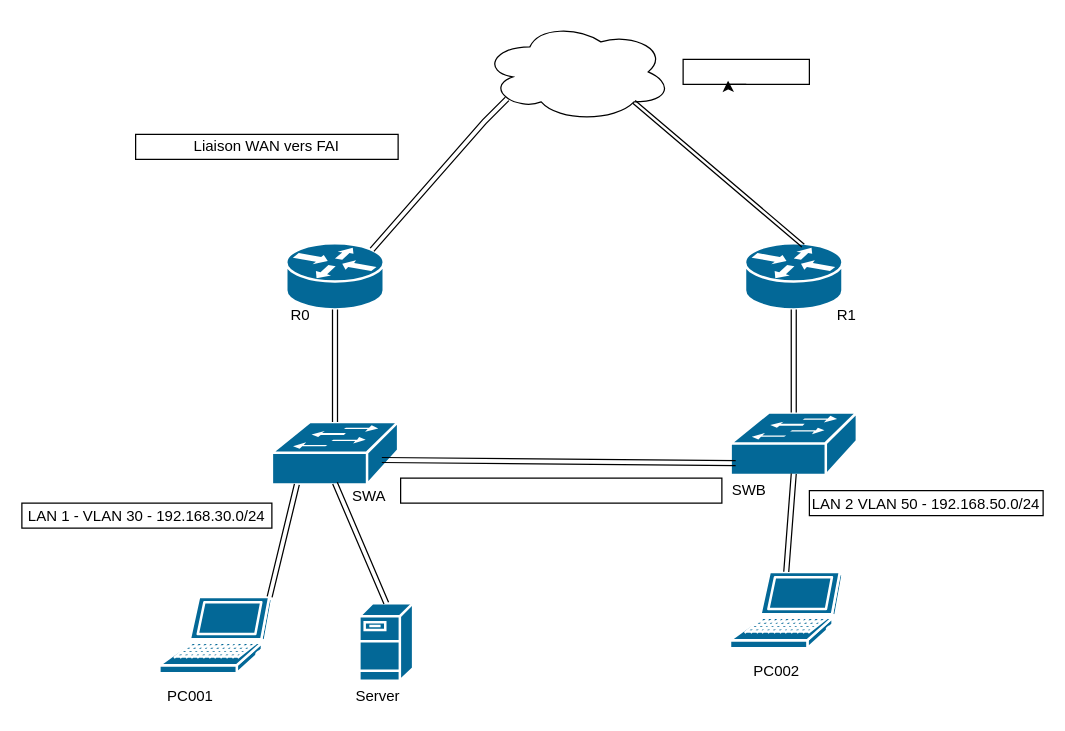
Some shapes in this 1065 by 731 pixel diagram are drawn without their labels. Each missing label, with the centre of its shape:
"Internet" goes at point 745,71.
"WAN - réseau 10.0.0.0/30 - routage RIP v2" goes at point 560,490.
